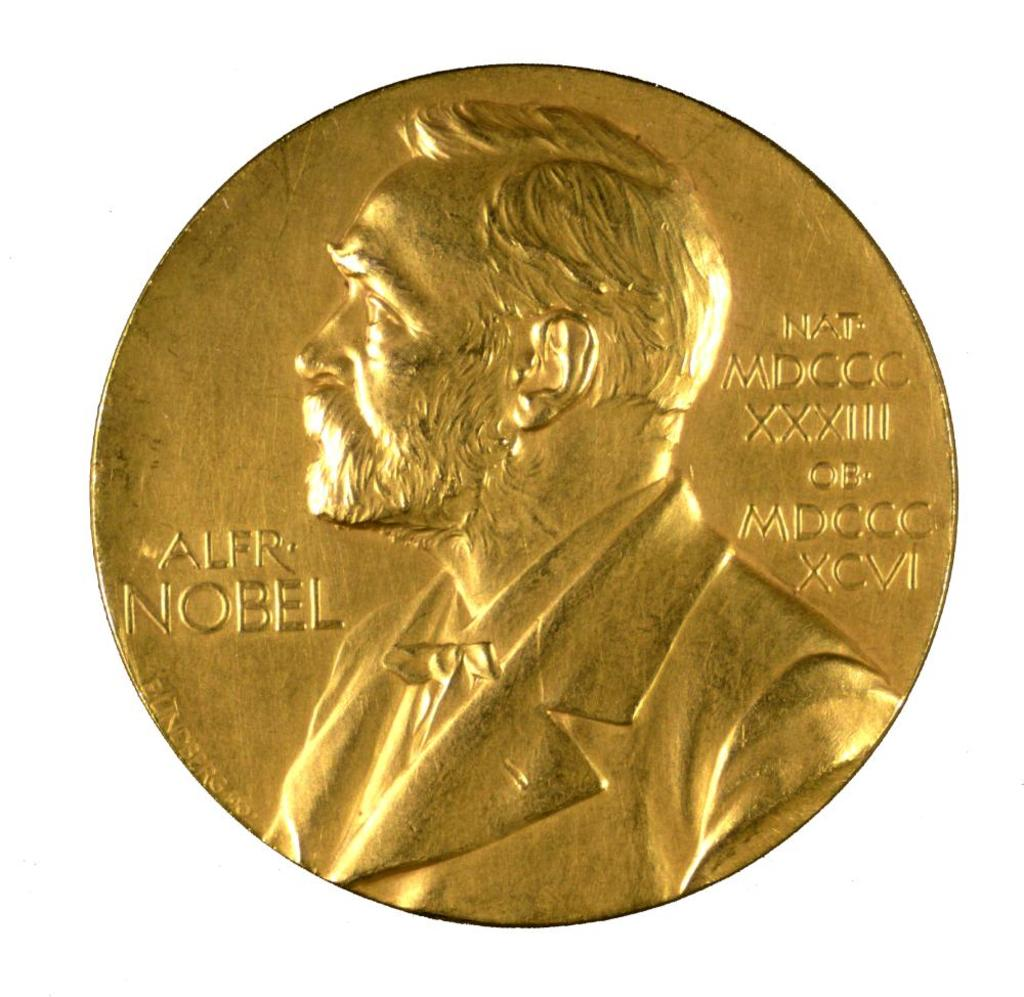Coin: (90, 63, 958, 928)
